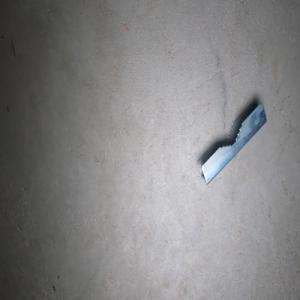ClampPart: (196, 100, 267, 185)
